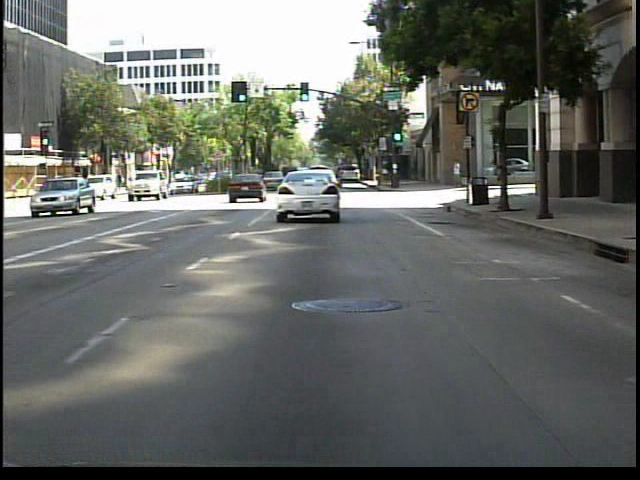person: (448, 155, 465, 195)
